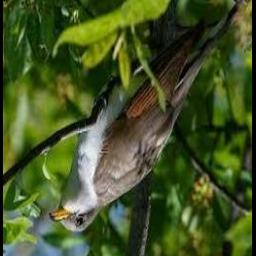Cuckoo: (50, 20, 216, 234)
